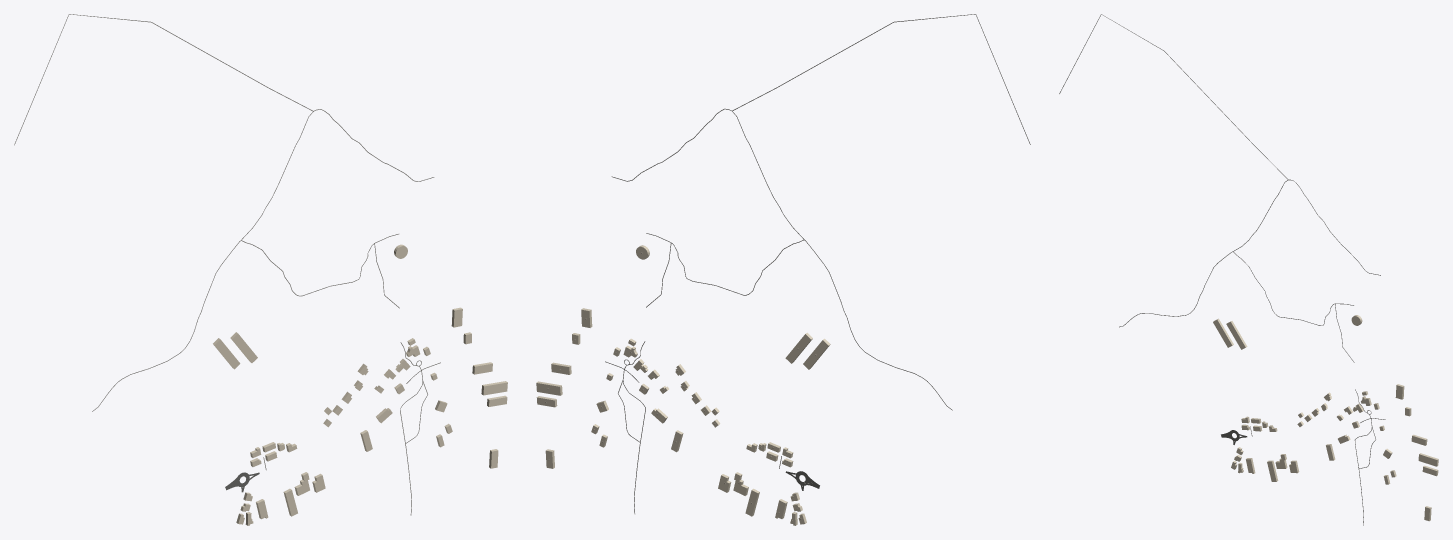
File: historic-palestine-06_22_3479_3166.glb
3 views of the same model, side by side, from view 1: azimuth 30°, elevation 25°; view 2: azimuth 150°, elevation 25°; view 3: azimuth 330°, elevation 25° (orthographic). The views are drawn at different scales.
Parts seen in each view (by area): view 1: Road; view 2: Road; view 3: no part large enough to name.
Part boxes in pixels (left/top/right/bottom): Road: left=92, top=109, right=434, bottom=411; Road: left=611, top=108, right=952, bottom=410.
Size of the model in its own units: 1077 by 1219 by 8.7.
